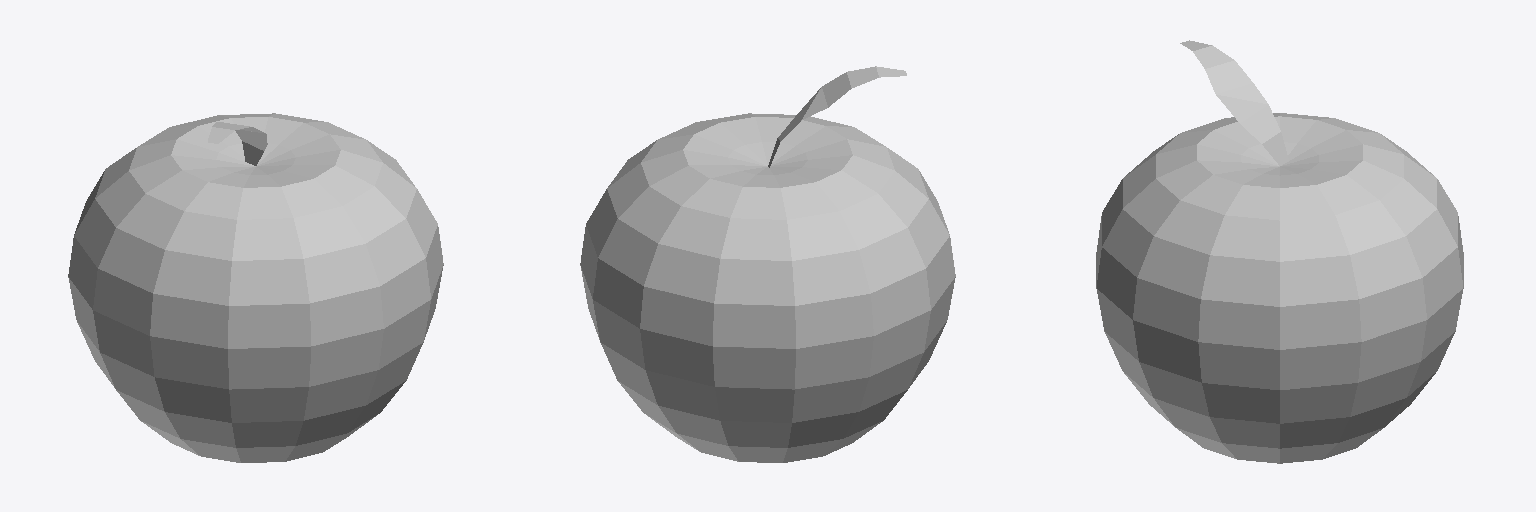
The model's file is apples.obj.
3 views of the same model, side by side, from view 1: azimuth 30°, elevation 25°; view 2: azimuth 150°, elevation 25°; view 3: azimuth 270°, elevation 25° (orthographic).
Visible parts, largest first — view 1: Mesh3 apple_half2 apple2_1 _Apples1 Model, Mesh2 apple_half1 apple2_1 _Apples1 Model, Mesh1 leaf apple2_1 _Apples1 Model; view 2: Mesh3 apple_half2 apple2_1 _Apples1 Model, Mesh2 apple_half1 apple2_1 _Apples1 Model, Mesh1 leaf apple2_1 _Apples1 Model; view 3: Mesh2 apple_half1 apple2_1 _Apples1 Model, Mesh3 apple_half2 apple2_1 _Apples1 Model, Mesh1 leaf apple2_1 _Apples1 Model.
Boxes of the visible parts, <box> form: Mesh3 apple_half2 apple2_1 _Apples1 Model: <box>68,121,347,462</box>; Mesh2 apple_half1 apple2_1 _Apples1 Model: <box>197,113,443,456</box>; Mesh1 leaf apple2_1 _Apples1 Model: <box>208,122,267,165</box>; Mesh3 apple_half2 apple2_1 _Apples1 Model: <box>676,121,955,462</box>; Mesh2 apple_half1 apple2_1 _Apples1 Model: <box>580,113,826,456</box>; Mesh1 leaf apple2_1 _Apples1 Model: <box>768,66,906,167</box>; Mesh2 apple_half1 apple2_1 _Apples1 Model: <box>1096,152,1463,463</box>; Mesh3 apple_half2 apple2_1 _Apples1 Model: <box>1096,113,1463,269</box>; Mesh1 leaf apple2_1 _Apples1 Model: <box>1180,40,1288,165</box>.
Size of the model in its own units: 0.0709 by 0.0719 by 0.0691.